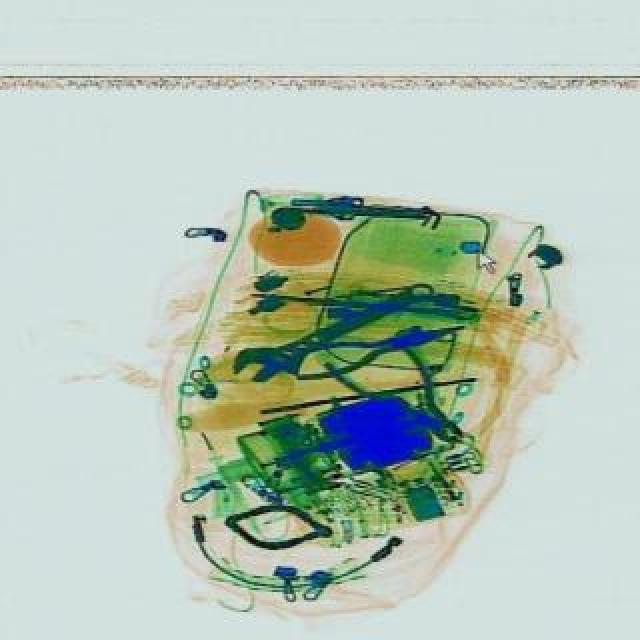scissors: (224, 266, 440, 398)
wrench: (318, 316, 484, 468), (284, 310, 468, 382)
